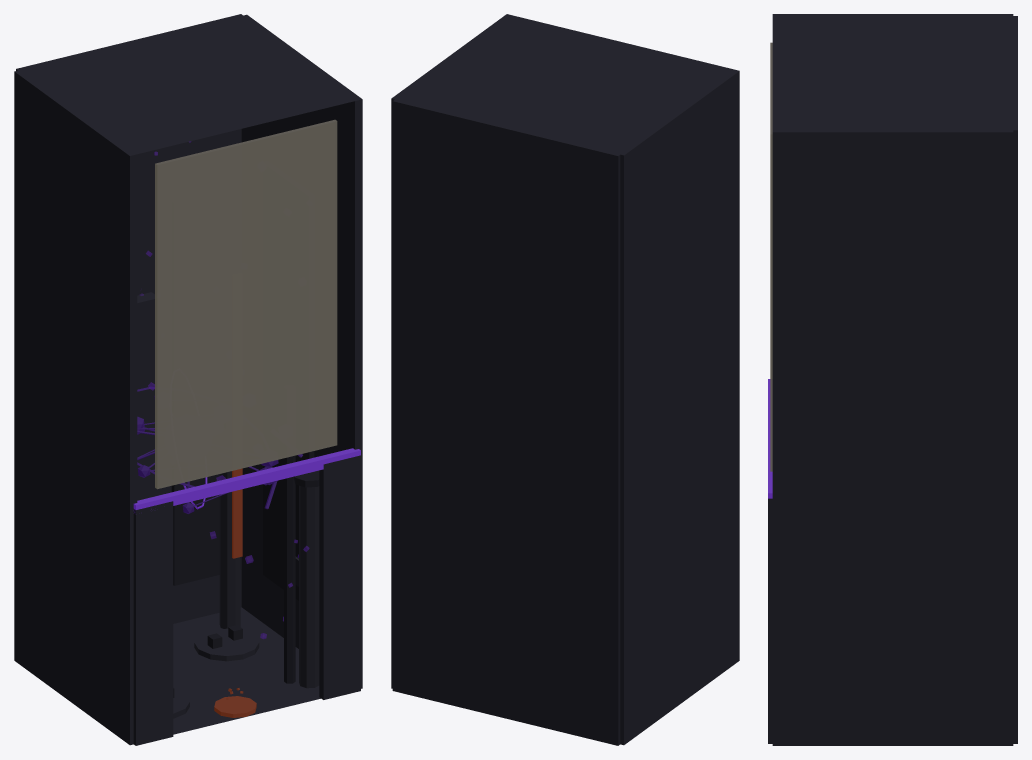
File: knowledgebase-int-draft-19.glb
The picture shows the model from 3 angles, left to right: view 1: azimuth 30°, elevation 25°; view 2: azimuth 150°, elevation 25°; view 3: azimuth 270°, elevation 25°; orthographic projection. The views are drawn at different scales.
Visible parts, largest first — view 1: room_wall_left, front_wall_glass, room_ceiling, room_wall_right, front_wall_right_pillar, front_wall_left_pillar, room_wall_back, room_floor, stone_column_01, book_wall_back_right, front_wall_lintel, book_wall_right (+6 smaller); view 2: room_wall_back, room_wall_left, room_ceiling, room_wall_right; view 3: room_wall_right, room_ceiling, room_wall_back, front_wall_glass, front_wall_right_pillar, room_wall_left.
Boxes of the visible parts, x1,y1,x2,y2 form: room_wall_left: (14,70,137,745); front_wall_glass: (155,119,337,489); room_ceiling: (24,18,354,154); room_wall_right: (241,14,362,688); front_wall_right_pillar: (319,455,360,699); front_wall_left_pillar: (133,501,173,745); room_wall_back: (16,14,244,623); room_floor: (173,607,320,734); stone_column_01: (299,485,319,688); book_wall_back_right: (171,474,241,585); front_wall_lintel: (133,448,360,512); book_wall_right: (263,451,314,600); room_wall_back: (392,98,621,745); room_wall_left: (617,69,739,745); room_ceiling: (397,16,731,153); room_wall_right: (391,14,513,688); room_wall_right: (772,128,1013,745); room_ceiling: (772,17,1013,130); room_wall_back: (1009,16,1017,743); front_wall_glass: (770,42,772,471); front_wall_right_pillar: (768,498,772,743); room_wall_left: (772,14,1013,17).
Size of the model in its own units: 3.72 by 9 by 3.32.
